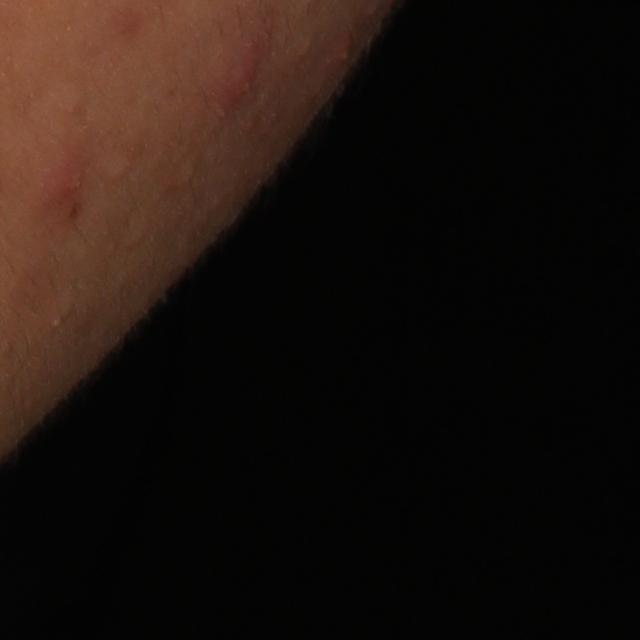papule: (41, 153, 94, 212), (331, 39, 356, 69)
